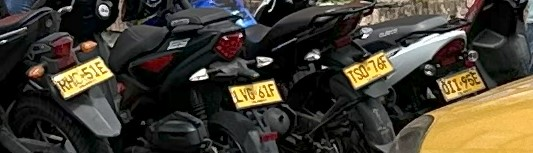number plate: (52, 57, 112, 99), (343, 52, 393, 89), (436, 67, 485, 101), (228, 79, 281, 109)
